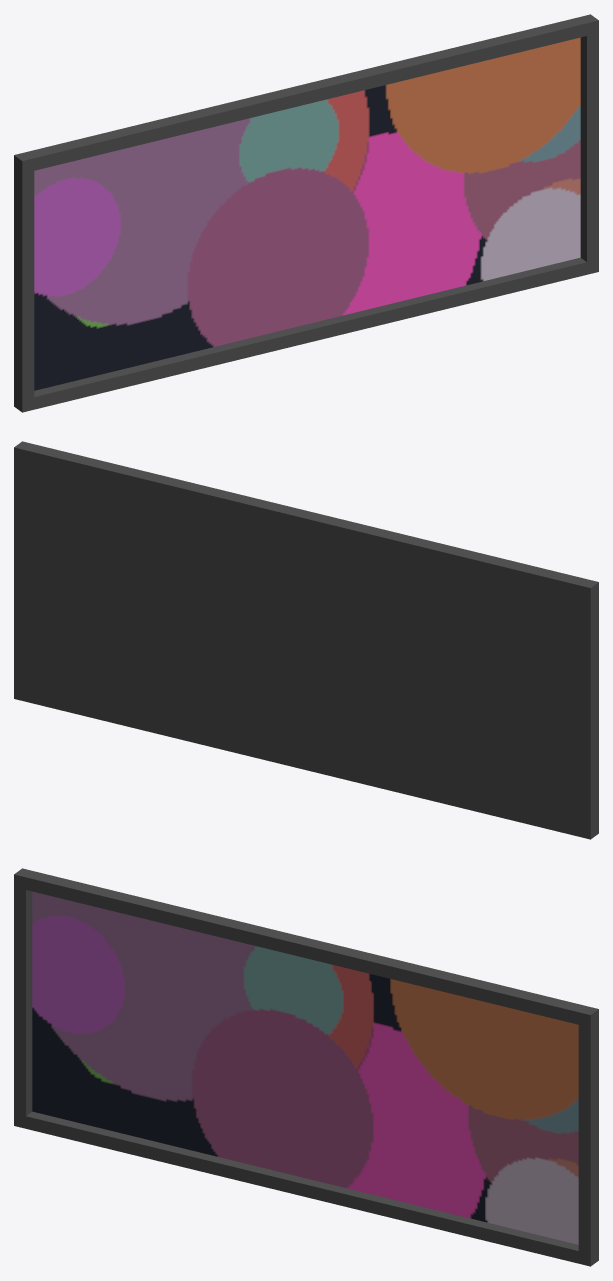
The model's file is wallart_06.glb.
3 views of the same model, one above another, from view 1: azimuth 30°, elevation 25°; view 2: azimuth 150°, elevation 25°; view 3: azimuth 330°, elevation 25° (orthographic).
Visible parts, largest first — view 1: frame; view 2: frame; view 3: frame.
Boxes of the visible parts, bbox=[...] form: frame: bbox=[14, 14, 598, 412]; frame: bbox=[14, 441, 598, 839]; frame: bbox=[14, 868, 598, 1266].
Bounding box in the file's own units: 1.2 × 0.5 × 0.03.
Materials: 2 (1 with a texture image).
